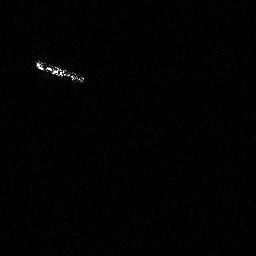ship: (33, 56, 86, 85)
